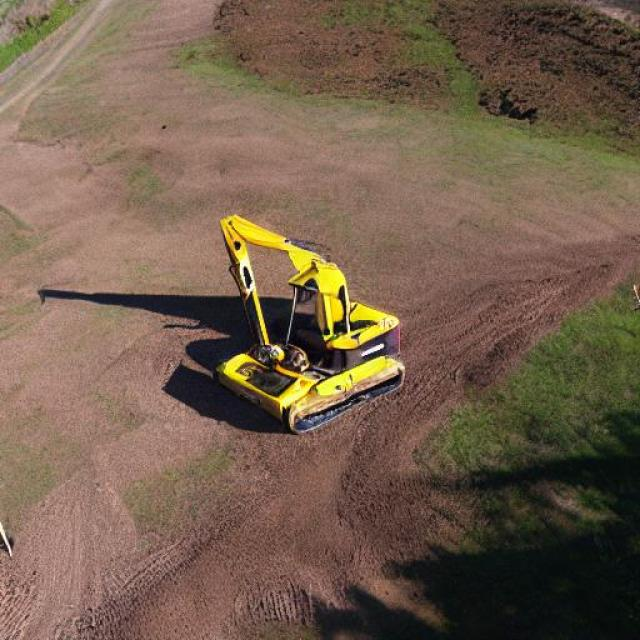excavator: (0, 1, 404, 425)
